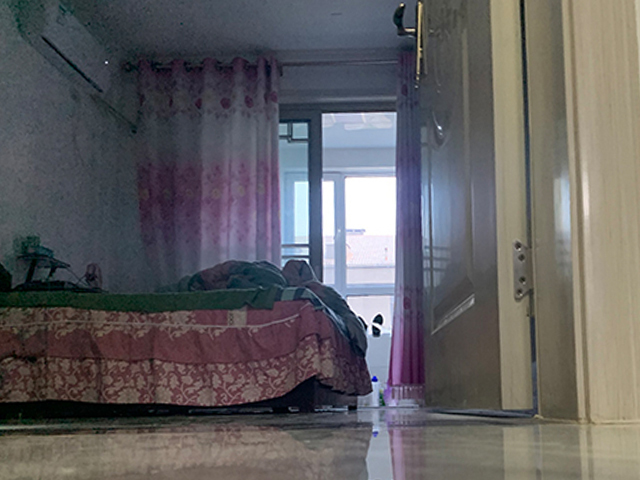bed: (1, 258, 372, 415)
curtain: (130, 51, 280, 263), (388, 47, 423, 402)
